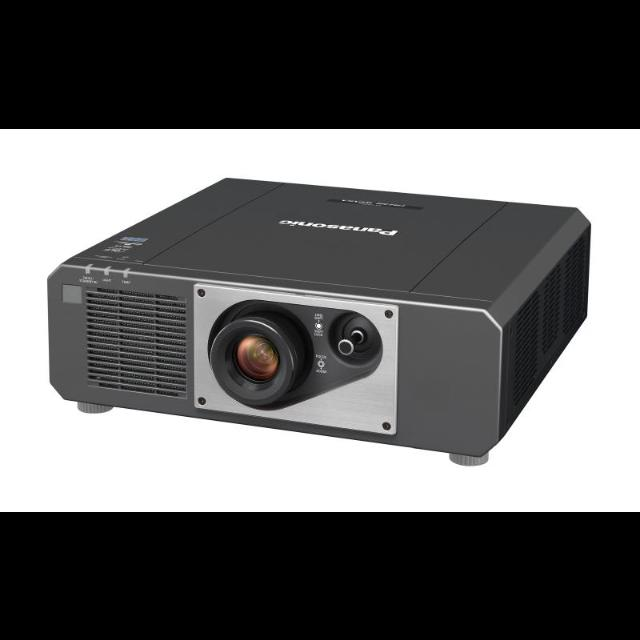Projector: (25, 157, 608, 475)
